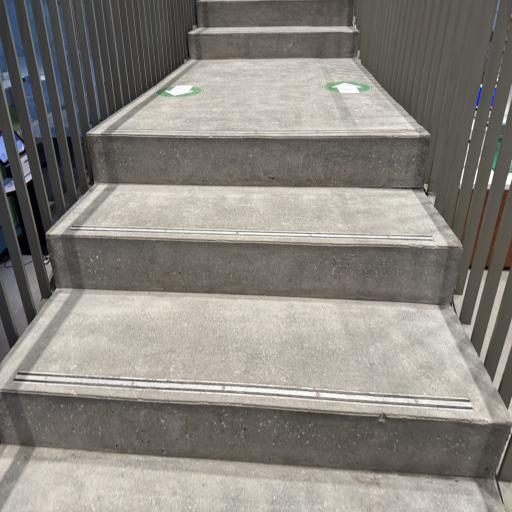Stairs: (0, 0, 512, 512), (0, 289, 510, 478), (88, 0, 430, 189), (47, 184, 462, 304), (0, 445, 504, 512), (188, 0, 358, 86), (196, 0, 353, 27)
